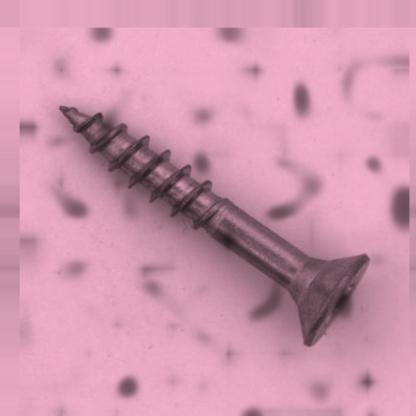metal: (58, 103, 370, 346)
